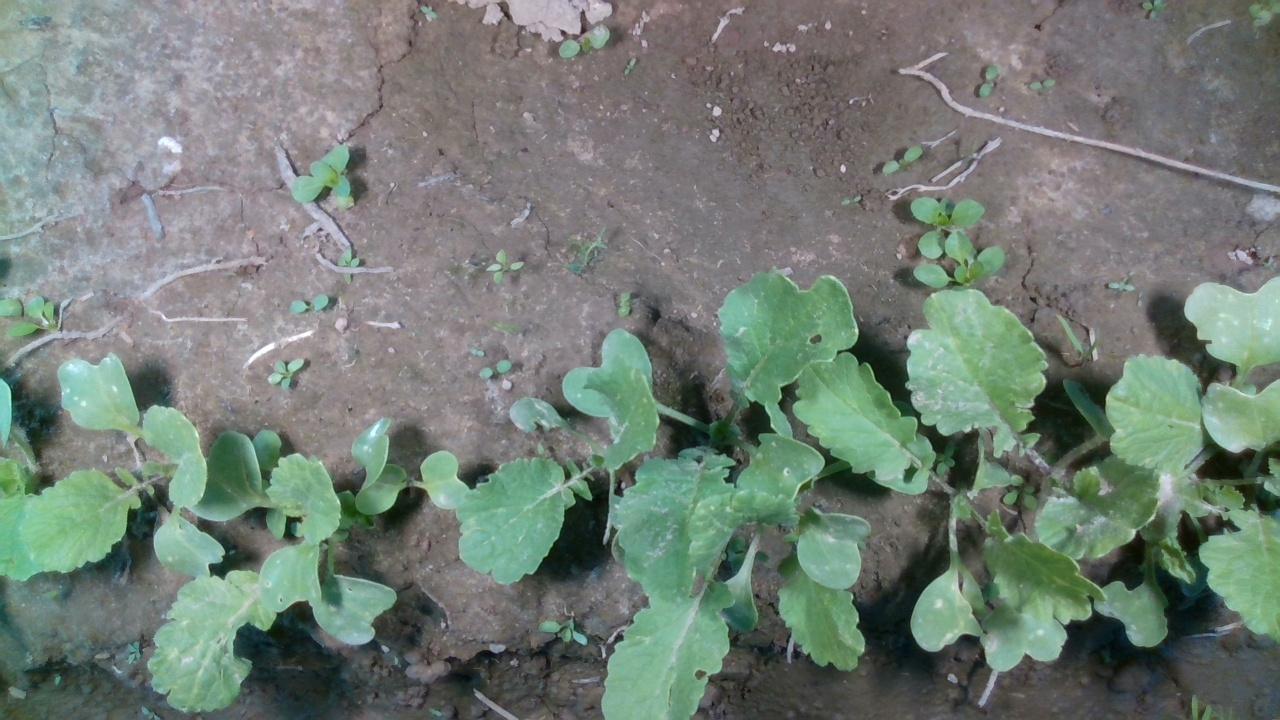weed: (267, 356, 309, 391), (971, 60, 1002, 105), (485, 244, 518, 284), (879, 147, 914, 175), (286, 293, 336, 312), (480, 360, 514, 380), (610, 287, 631, 319), (845, 190, 861, 208)
